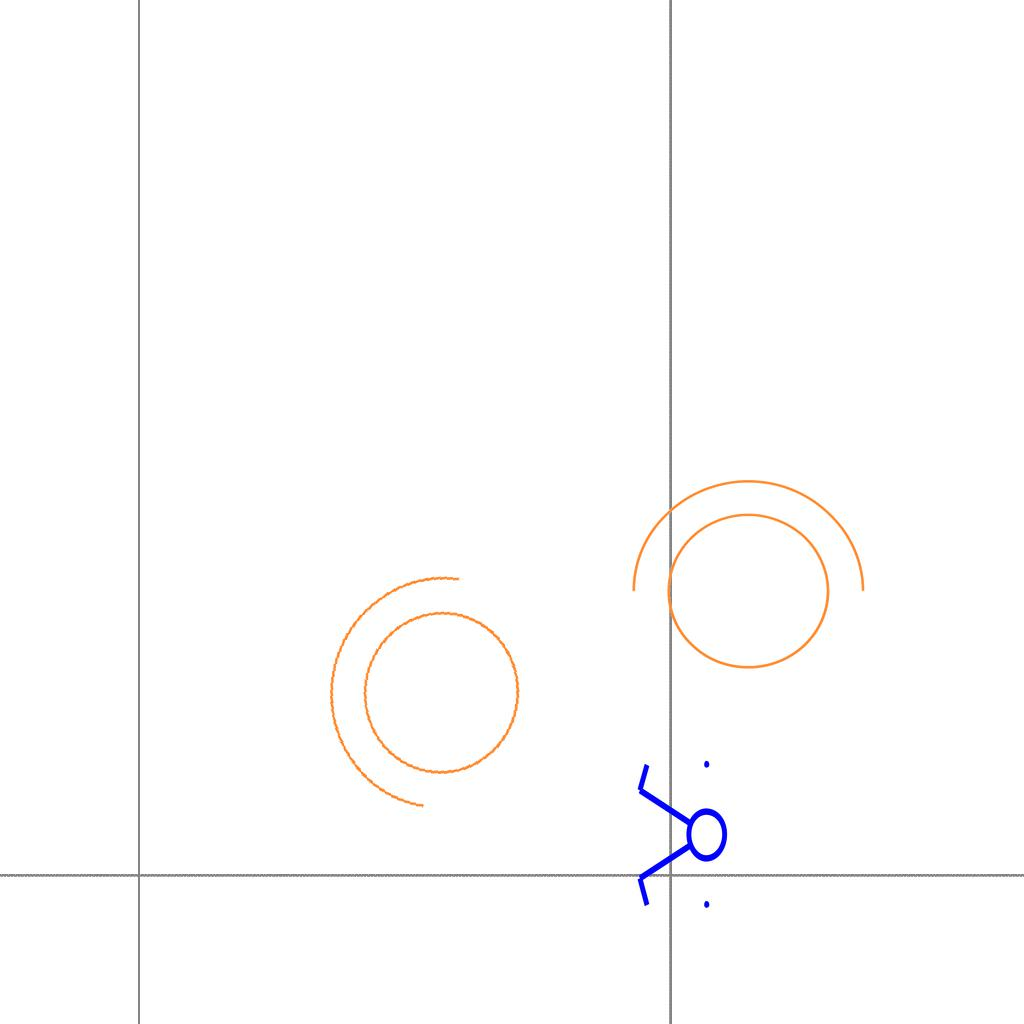Scheinwerfer_fuer_Alarmbeleuchtung: (299, 549, 563, 846), (610, 469, 874, 694)
Serienschalter: (633, 752, 729, 920)
